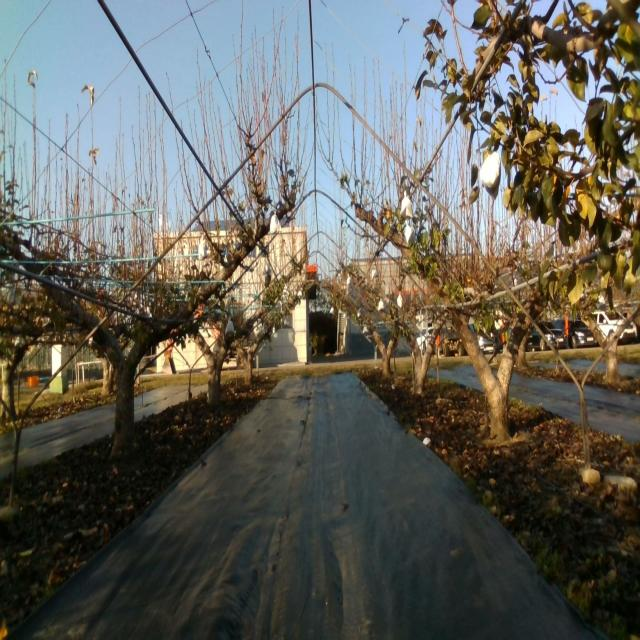pearbags: (481, 148, 503, 201), (400, 190, 413, 219), (404, 220, 416, 246), (197, 238, 211, 260), (269, 211, 282, 234)
